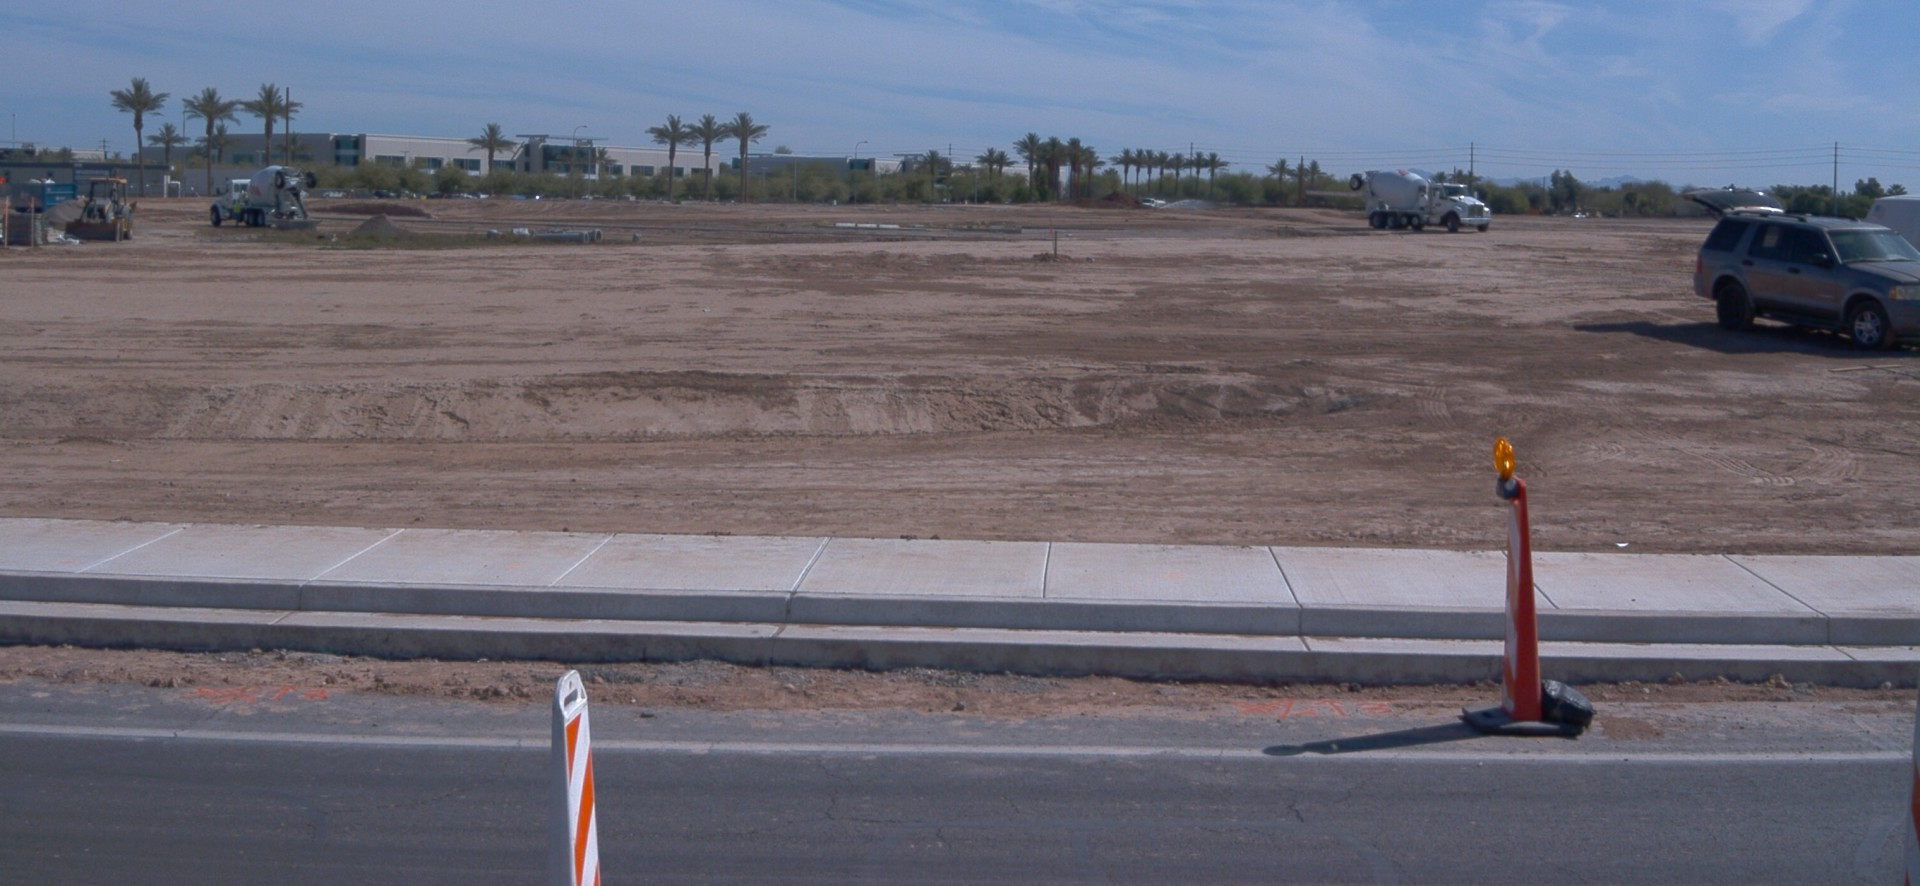TYPE_PEDESTRIAN: (231, 197, 243, 230)
TYPE_VEHICLE: (1678, 185, 1920, 354), (1346, 160, 1495, 234), (206, 164, 318, 230), (66, 175, 141, 242), (1860, 191, 1920, 257), (1140, 195, 1164, 209)
